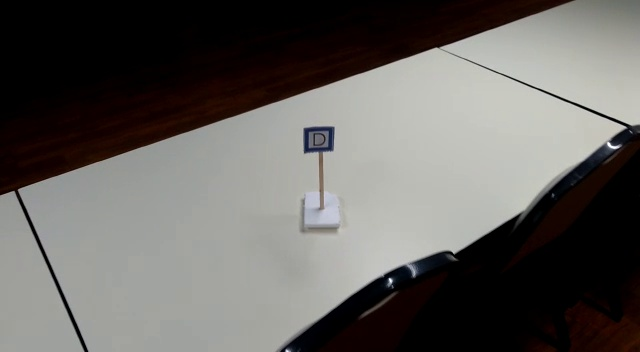durak: (304, 126, 333, 154)
